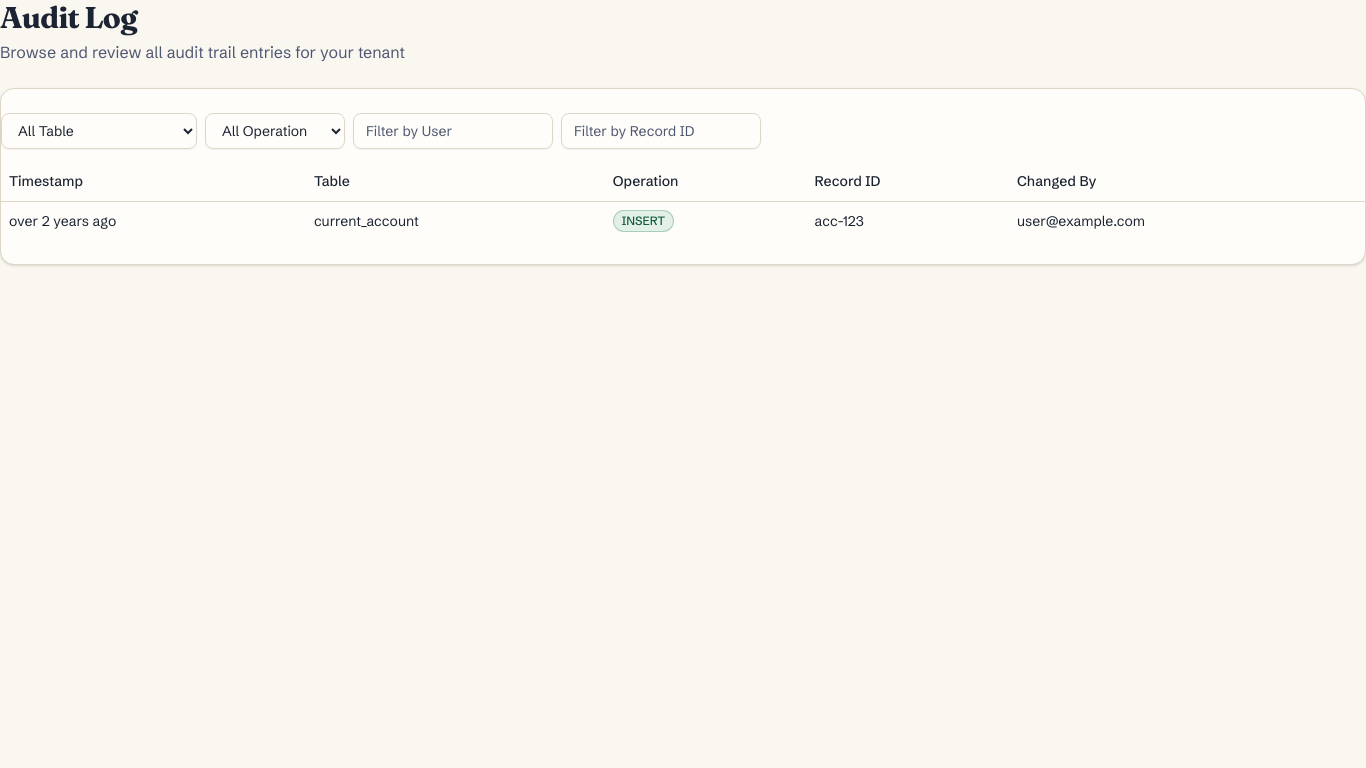
Test: AuditLogPage › row click and detail panel › opens detail panel when row is clicked
The image size is (1366, 768).
Expected: the text "acc-123" is shown, [807, 201, 1009, 240]
Click the text "acc-123" at [63, 220], box [1, 201, 1365, 240]
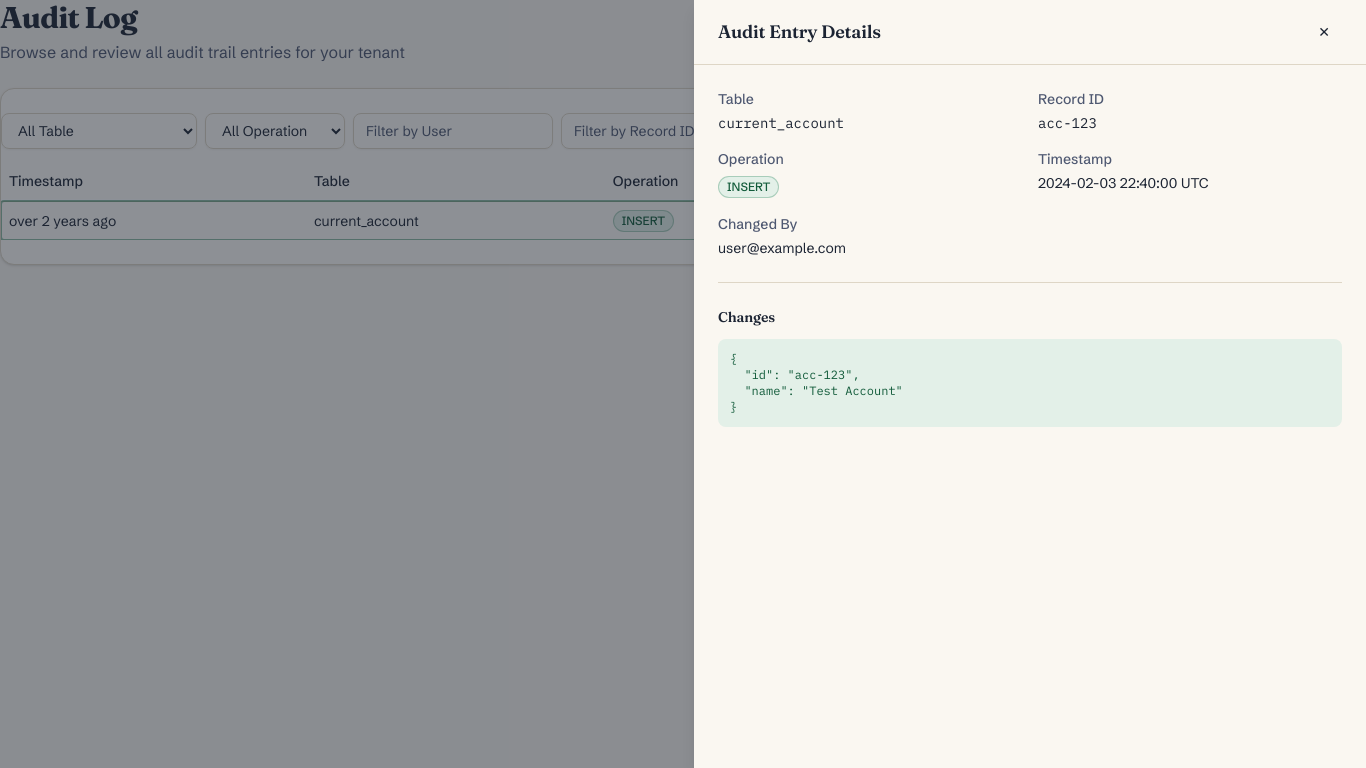
Expected: the heading "Audit Entry Details" is shown, [718, 18, 881, 46]
